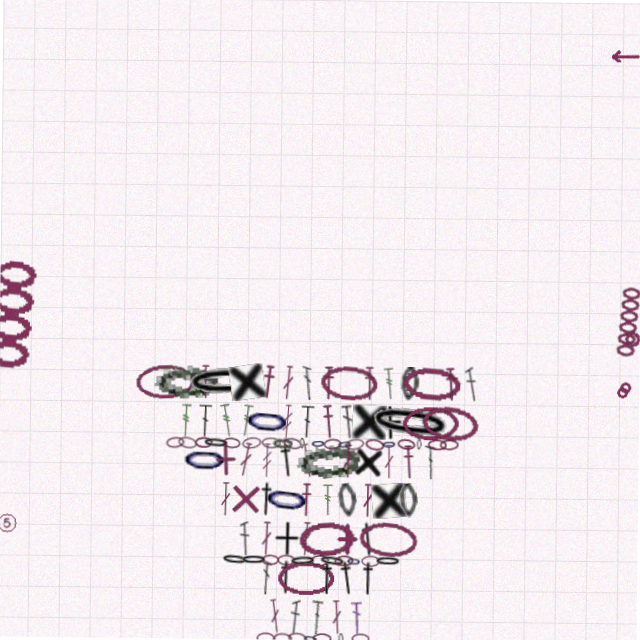chain: (367, 400, 455, 444), (185, 364, 271, 402), (297, 441, 363, 481), (421, 402, 482, 442), (360, 519, 422, 558), (155, 364, 219, 401), (402, 364, 462, 402), (136, 365, 197, 401), (300, 520, 359, 557), (320, 364, 379, 401), (403, 405, 461, 439), (264, 480, 314, 519), (280, 561, 337, 595), (244, 403, 293, 440), (183, 443, 230, 478), (338, 482, 361, 518), (400, 482, 421, 517), (401, 366, 420, 400), (321, 554, 349, 568), (224, 554, 251, 567), (292, 555, 319, 567), (204, 438, 231, 450), (243, 555, 270, 566), (377, 555, 404, 566), (179, 437, 199, 451), (284, 437, 304, 451), (346, 437, 366, 451), (366, 437, 386, 451), (243, 437, 263, 450), (398, 437, 417, 450), (167, 438, 186, 450), (274, 438, 294, 449), (224, 438, 242, 450), (325, 438, 343, 450), (313, 555, 332, 566), (337, 555, 356, 566), (364, 555, 383, 566), (263, 438, 282, 449), (429, 438, 448, 449), (441, 438, 460, 449), (264, 555, 282, 566), (280, 555, 298, 566), (196, 438, 214, 449), (338, 438, 354, 450), (349, 555, 364, 567), (312, 438, 327, 449), (383, 438, 398, 449), (291, 632, 311, 640), (277, 633, 296, 640), (316, 633, 335, 640), (260, 633, 278, 640), (355, 633, 373, 640), (306, 633, 322, 640), (301, 438, 306, 449), (418, 438, 423, 449), (342, 633, 347, 640)
double: (239, 443, 256, 478), (301, 443, 317, 478), (271, 599, 286, 634), (342, 404, 357, 439), (465, 365, 480, 400), (312, 600, 327, 634), (199, 405, 214, 439), (301, 405, 316, 439), (282, 366, 296, 400), (302, 522, 315, 556), (334, 600, 346, 634), (354, 600, 366, 634), (263, 561, 275, 595), (263, 522, 275, 556), (426, 444, 438, 478), (293, 600, 304, 634), (242, 522, 253, 556), (222, 483, 233, 517), (364, 483, 375, 517), (344, 444, 355, 478), (385, 444, 396, 478), (303, 366, 314, 400)
enseble_chain: (0, 261, 43, 379), (614, 283, 640, 356)
half_double: (339, 560, 361, 595), (360, 521, 381, 556), (258, 482, 279, 517), (278, 443, 299, 478), (279, 560, 299, 595), (320, 561, 340, 595), (361, 561, 381, 595), (261, 365, 277, 400), (322, 404, 337, 439), (403, 444, 418, 478), (444, 366, 459, 400), (302, 483, 315, 517), (200, 366, 213, 400), (323, 366, 336, 400), (364, 366, 377, 400)
noise: (0, 515, 21, 538), (606, 47, 637, 59), (623, 326, 640, 345), (616, 382, 630, 396), (620, 378, 632, 390)
single: (229, 364, 267, 402), (373, 482, 409, 518), (230, 482, 265, 517), (210, 443, 245, 478), (353, 404, 388, 439), (354, 443, 387, 479), (333, 522, 367, 556), (377, 405, 404, 439), (276, 522, 302, 556)
treble: (220, 404, 236, 439), (240, 404, 256, 439), (383, 366, 398, 400), (282, 405, 295, 439), (324, 483, 336, 517), (181, 405, 193, 439), (263, 444, 274, 478)
